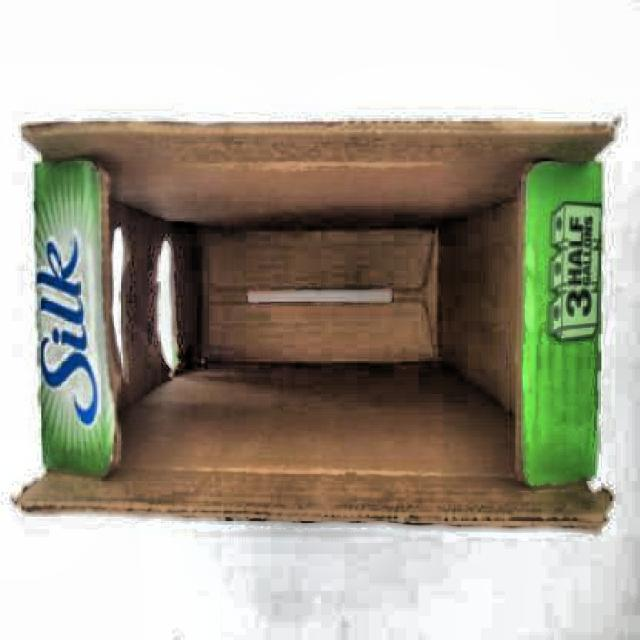Cardbox: (0, 70, 640, 572)
